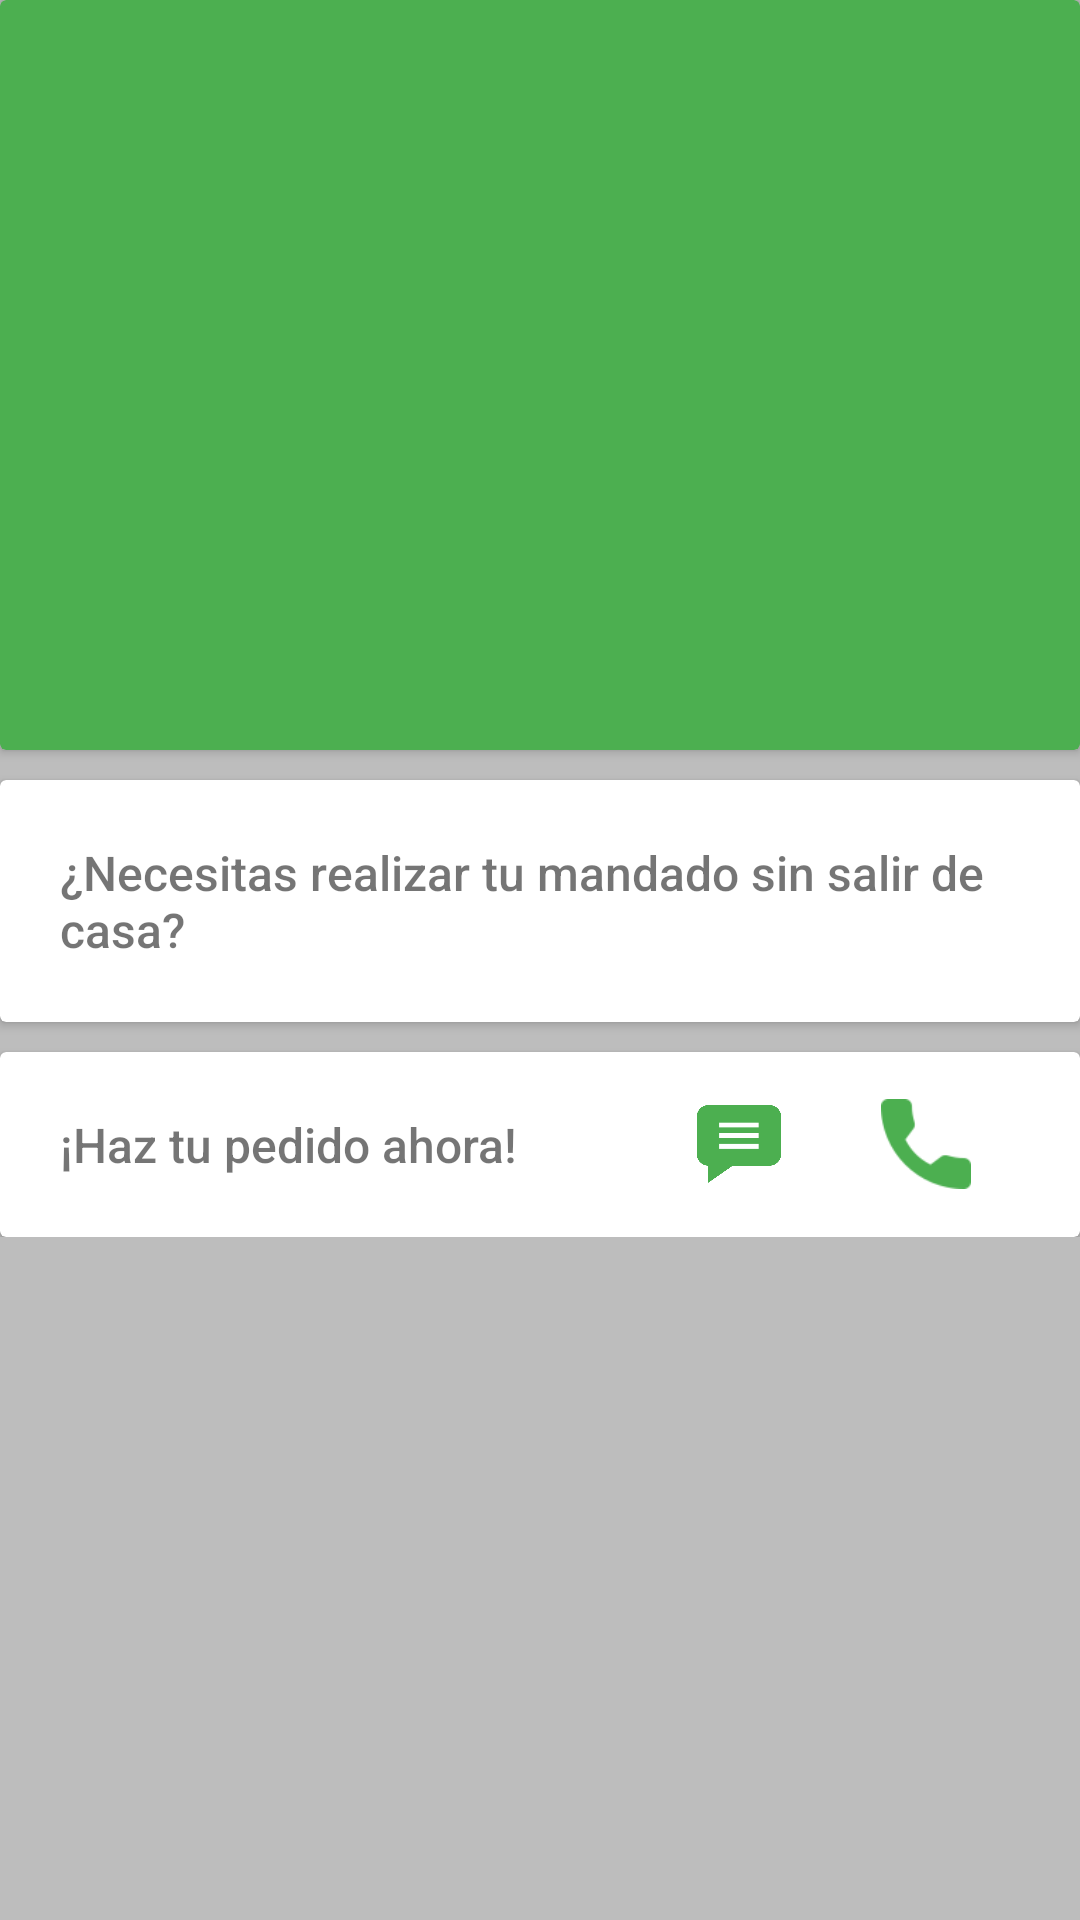

Icons on this 1080x1920 Android screen, each with its box as (x1, y1, x2, y2):
commentg: (697, 1105, 781, 1183)
phoneg: (881, 1099, 971, 1189)
